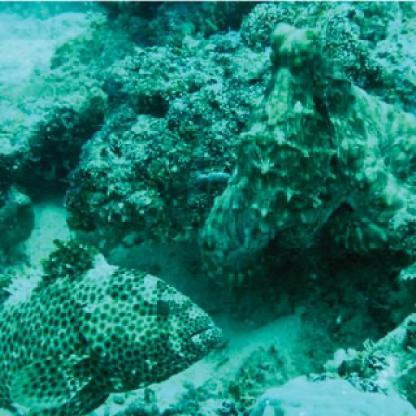Serranidae -Groupers-: (1, 235, 233, 416)
